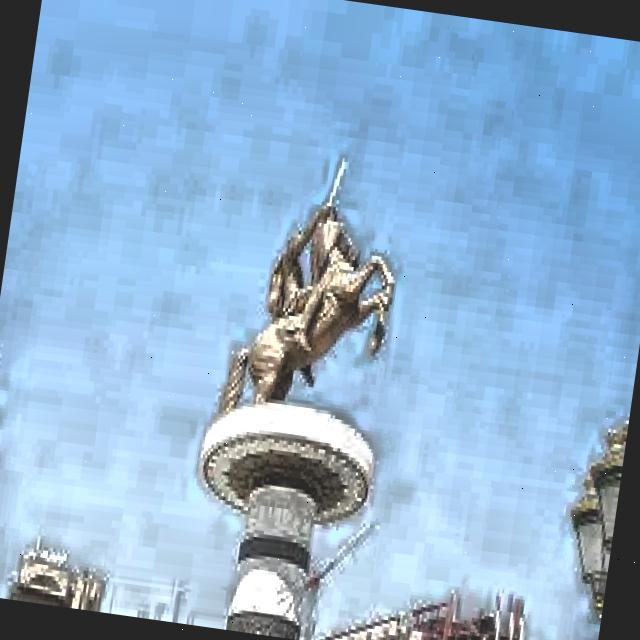alexander the great monument: (174, 144, 422, 640)
